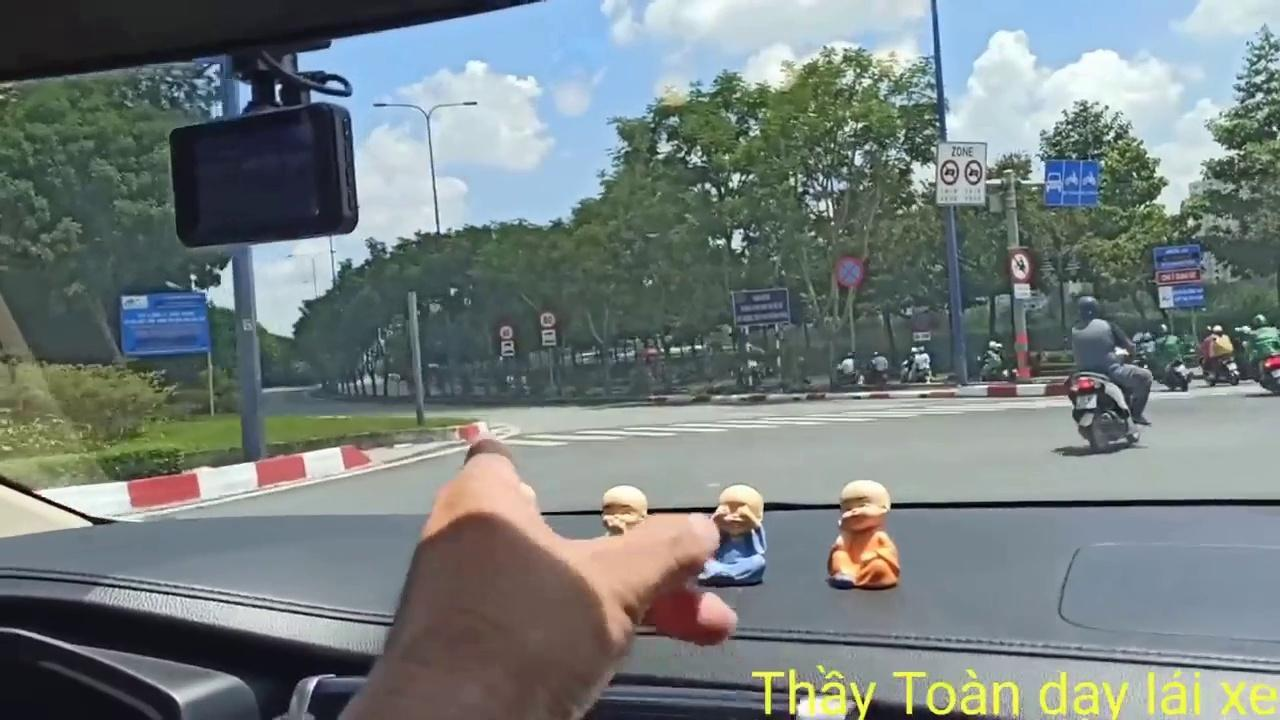Biển phụ: (500, 340, 516, 358), (541, 329, 556, 348)
Cấm cac phương tiện hoạt động trong khung giờ cố định: (936, 139, 990, 210)
Cấm dừng - Cấm đỗ: (834, 255, 865, 287)
Cấm xe máy: (1008, 247, 1034, 282)
GIơi hạn tốc độ 60Km/h: (499, 324, 514, 340)
Giới hạn tốc độ 80Km/h: (539, 310, 557, 328)
Khác: (116, 288, 214, 360), (1149, 242, 1208, 311)
Làn đường cho từng xe: (1042, 158, 1100, 208)
